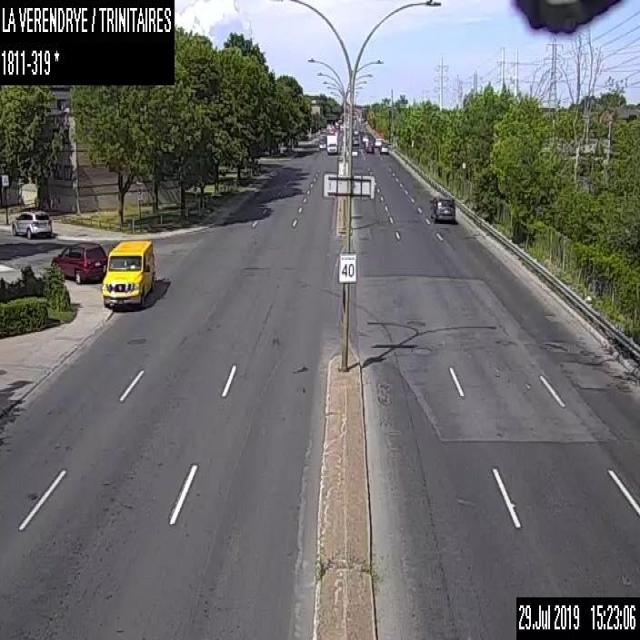vehicle: (101, 238, 154, 308), (50, 240, 107, 282), (11, 208, 52, 237), (428, 192, 454, 221), (326, 134, 336, 154), (364, 139, 373, 152), (379, 143, 387, 153), (318, 139, 326, 149), (361, 132, 368, 142), (374, 137, 381, 146), (352, 137, 358, 145), (352, 127, 358, 134)
